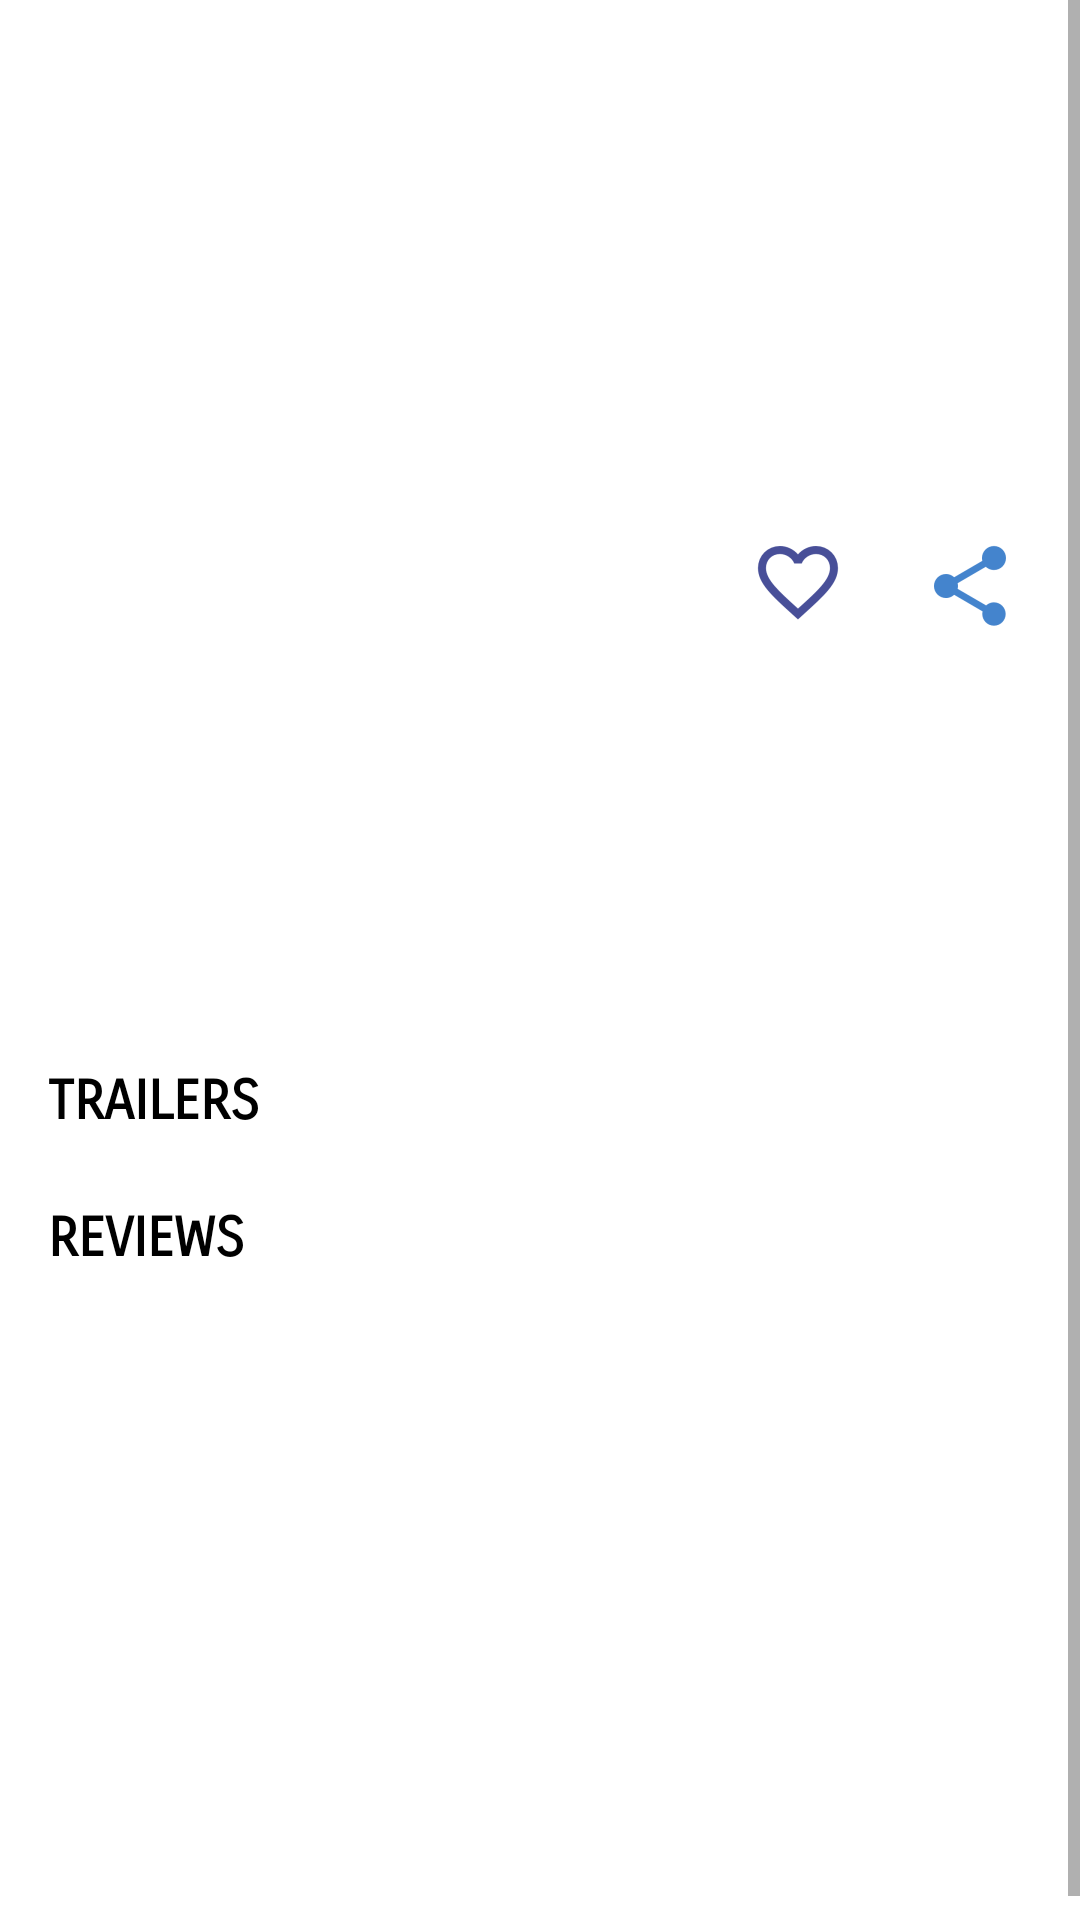

Icon click points for this 1080 x 1920 phone screenshot, format [x,y]:
share: [970,586]
unfav: [798,582]
